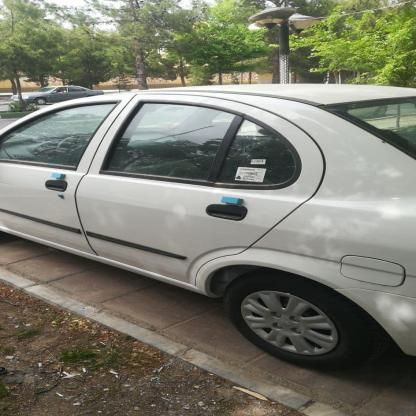Car: (0, 71, 416, 367), (0, 84, 112, 112)
